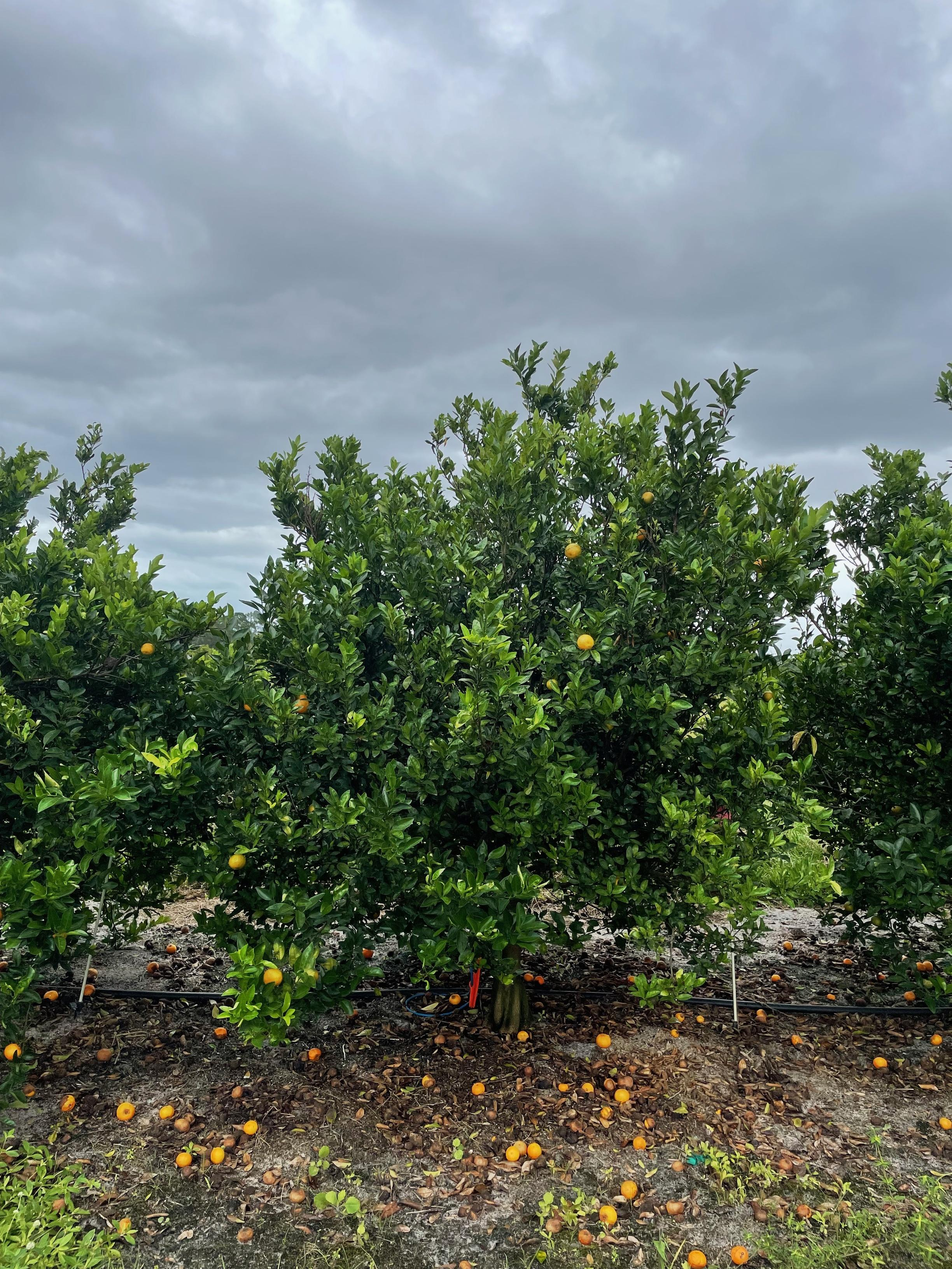fruit_on_ground: (260, 965, 285, 989), (290, 690, 313, 716), (574, 631, 597, 653), (562, 540, 584, 562), (226, 851, 249, 872), (139, 640, 157, 659), (639, 489, 657, 507), (632, 525, 649, 544), (869, 913, 885, 929), (760, 689, 777, 704), (889, 802, 904, 816), (843, 901, 855, 912)
fruit_on_tree: (114, 1100, 136, 1122), (2, 1040, 24, 1061), (597, 1203, 618, 1225), (729, 1244, 750, 1266), (618, 1179, 639, 1200), (58, 1092, 78, 1113), (261, 1168, 282, 1187), (686, 1248, 707, 1267), (544, 1216, 564, 1235), (235, 1225, 256, 1243), (241, 1117, 261, 1135), (504, 1143, 522, 1162), (576, 1227, 594, 1246), (525, 1140, 543, 1159), (174, 1150, 193, 1168), (665, 1198, 684, 1216), (209, 1145, 226, 1165), (794, 1201, 812, 1219), (288, 1186, 306, 1204), (158, 1103, 176, 1121), (594, 1031, 612, 1049), (172, 1117, 191, 1134), (616, 1073, 634, 1090), (19, 1081, 37, 1098), (776, 1155, 794, 1172), (420, 1073, 438, 1090), (95, 1046, 113, 1063), (613, 1087, 631, 1103), (470, 1079, 486, 1097), (80, 982, 97, 998), (307, 1045, 324, 1061), (42, 987, 60, 1002), (446, 990, 462, 1006), (632, 1134, 648, 1150), (212, 1024, 229, 1039), (937, 1115, 952, 1132), (871, 1055, 888, 1070), (144, 960, 160, 975), (231, 1084, 246, 1099), (472, 1154, 488, 1168), (670, 1158, 686, 1172), (345, 1006, 360, 1020), (431, 1031, 446, 1045), (222, 1134, 237, 1148), (599, 1105, 614, 1119), (580, 1079, 595, 1093), (516, 1028, 530, 1043), (928, 1033, 943, 1047), (0, 957, 12, 974), (602, 1075, 616, 1089), (903, 989, 917, 1003), (84, 965, 98, 978), (361, 947, 375, 960), (920, 959, 934, 972), (522, 1064, 535, 1077), (557, 1080, 570, 1093), (165, 941, 178, 954), (654, 959, 668, 971), (522, 970, 536, 982), (790, 1033, 804, 1045), (203, 954, 218, 965), (532, 999, 545, 1011), (644, 1116, 656, 1128), (674, 1010, 686, 1022), (625, 972, 637, 984), (914, 961, 927, 972), (755, 1007, 768, 1018), (534, 975, 546, 986), (695, 1013, 707, 1024), (782, 940, 794, 951), (178, 924, 191, 934), (876, 970, 887, 981), (769, 973, 781, 983), (825, 992, 836, 1002), (669, 1028, 680, 1038), (842, 956, 853, 965), (810, 952, 820, 960)
